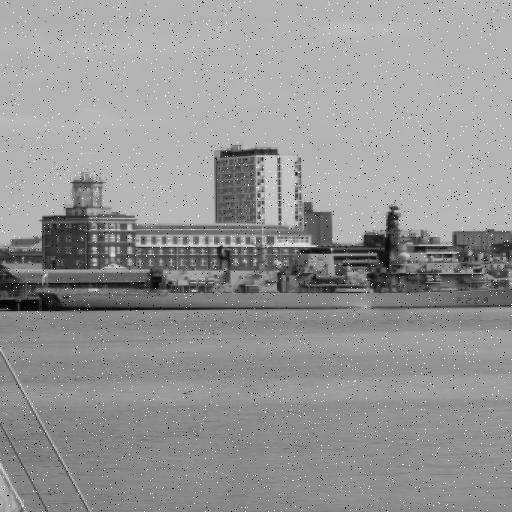Fragata: (25, 231, 512, 317)
